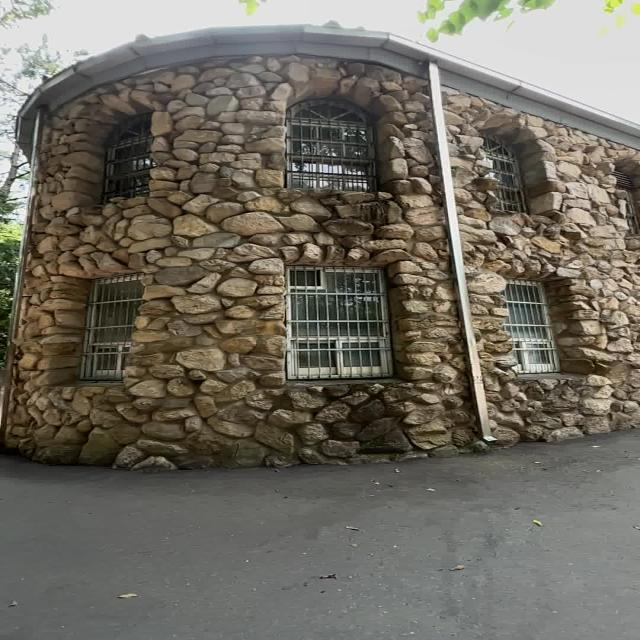building: (12, 19, 640, 442)
